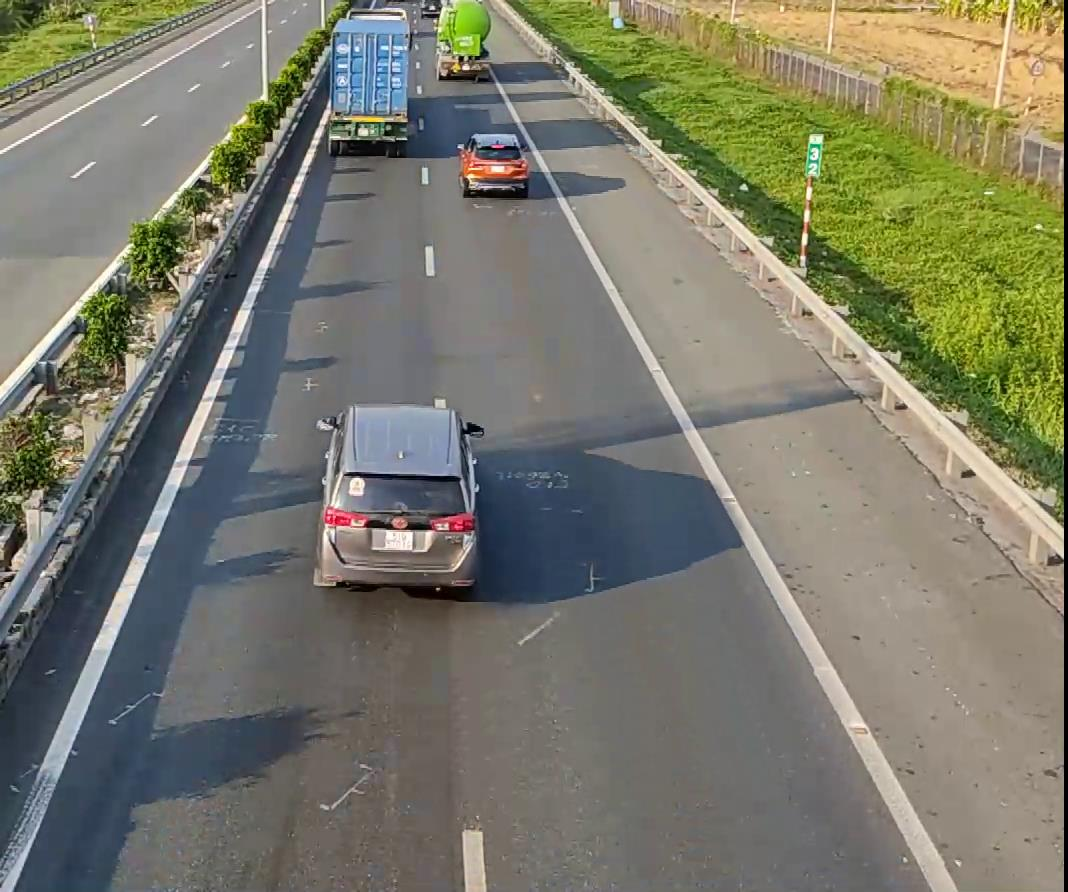car: (316, 398, 482, 593), (457, 132, 530, 196)
container: (324, 1, 412, 154), (432, 0, 490, 80)
